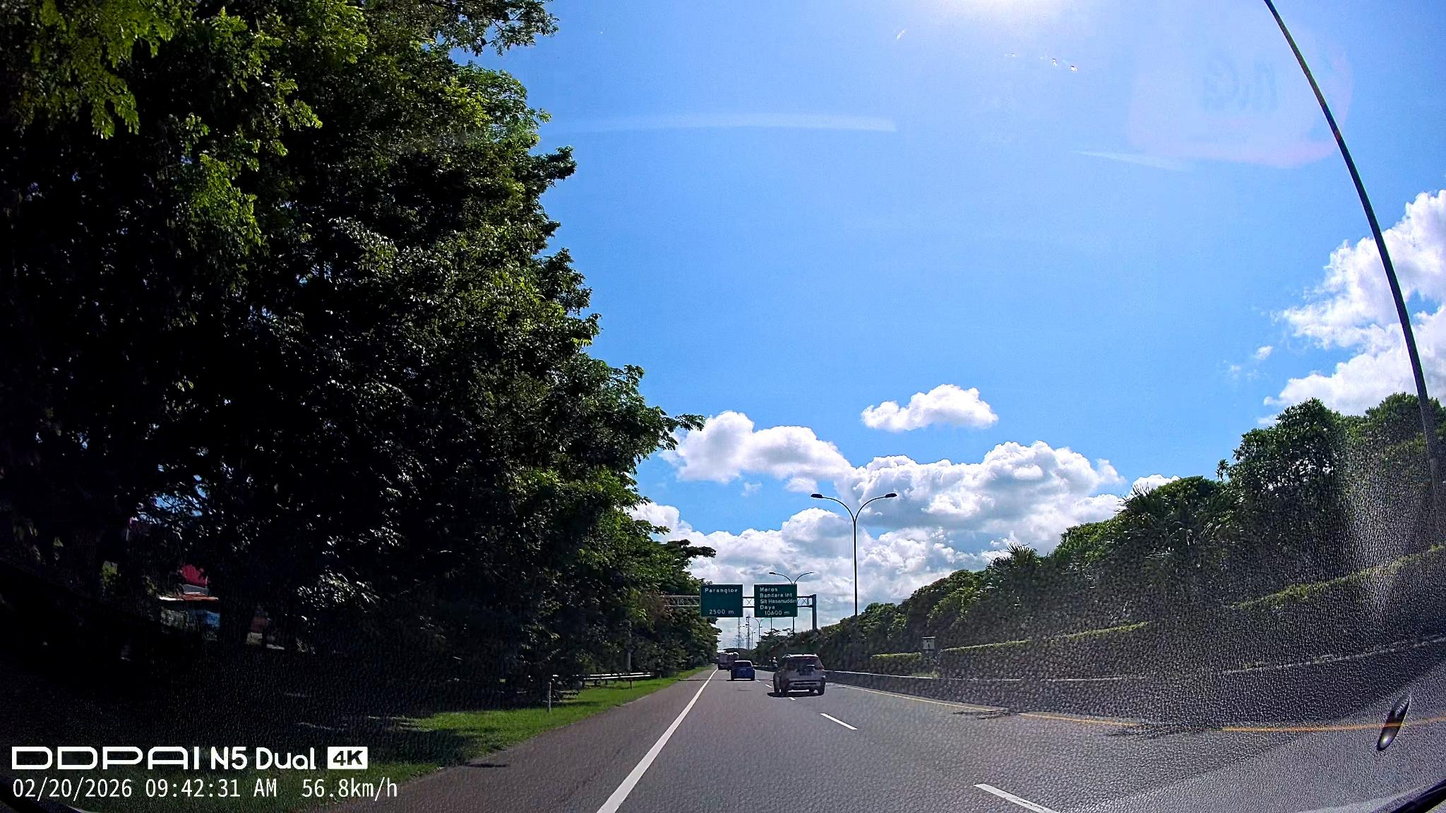rambu_teks: (699, 584, 744, 618), (753, 584, 798, 618)
